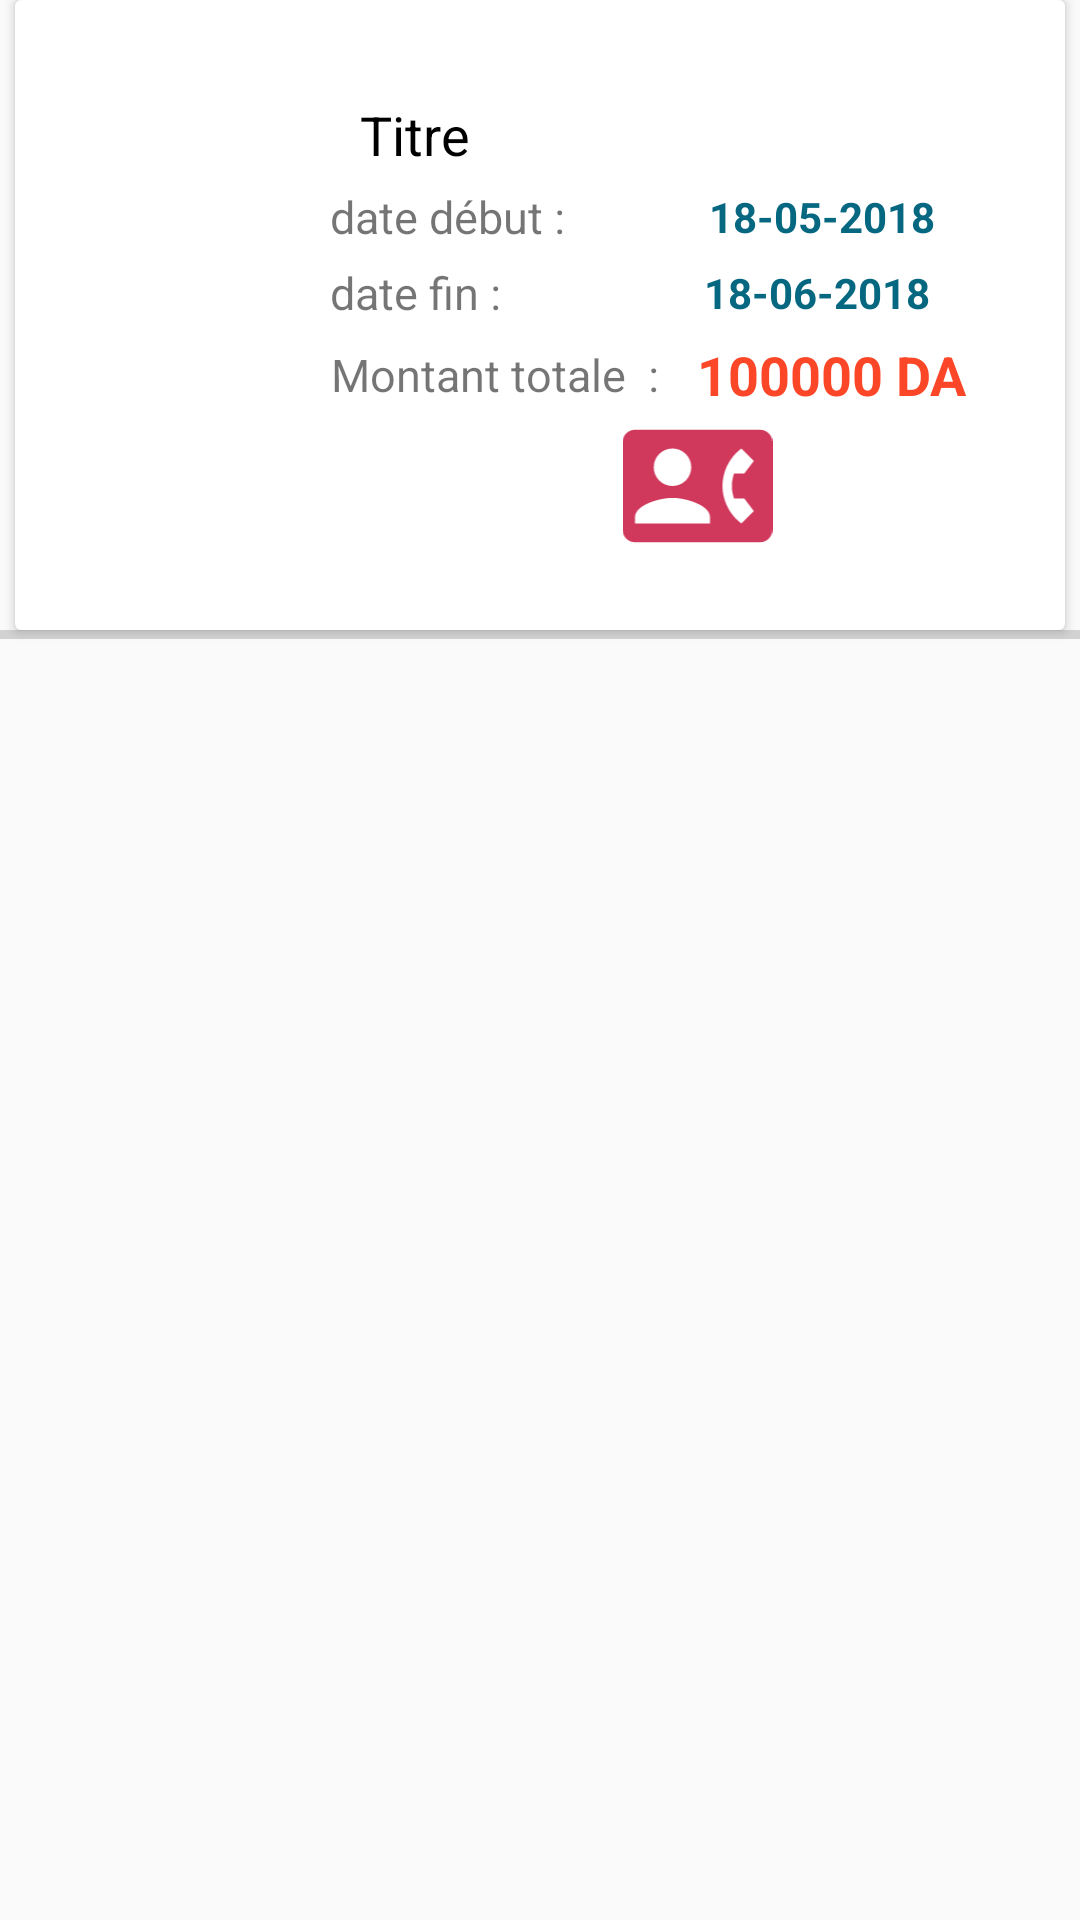

Where icons sit on this 1080px×1920px app screen, as bbox=[x1, y1, x2, y2]:
contact phone: bbox=[623, 429, 773, 543]
